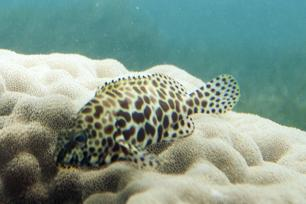Serranidae -Groupers-: (53, 66, 242, 184)
